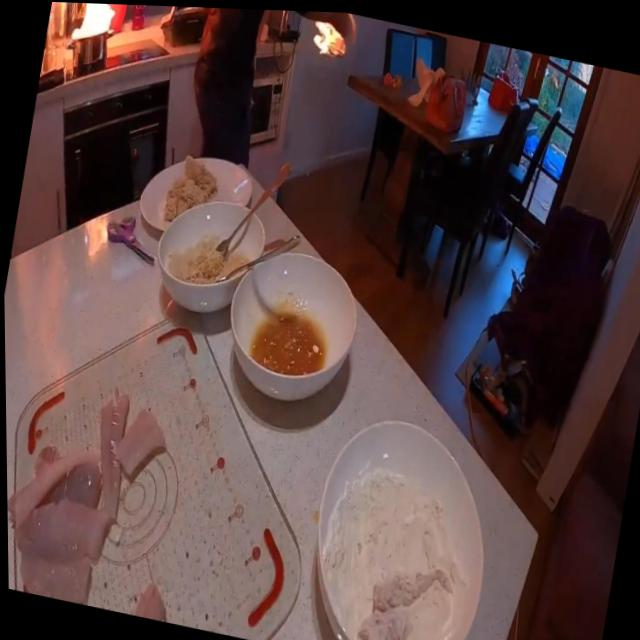fire: (61, 2, 125, 48), (303, 15, 355, 64)
